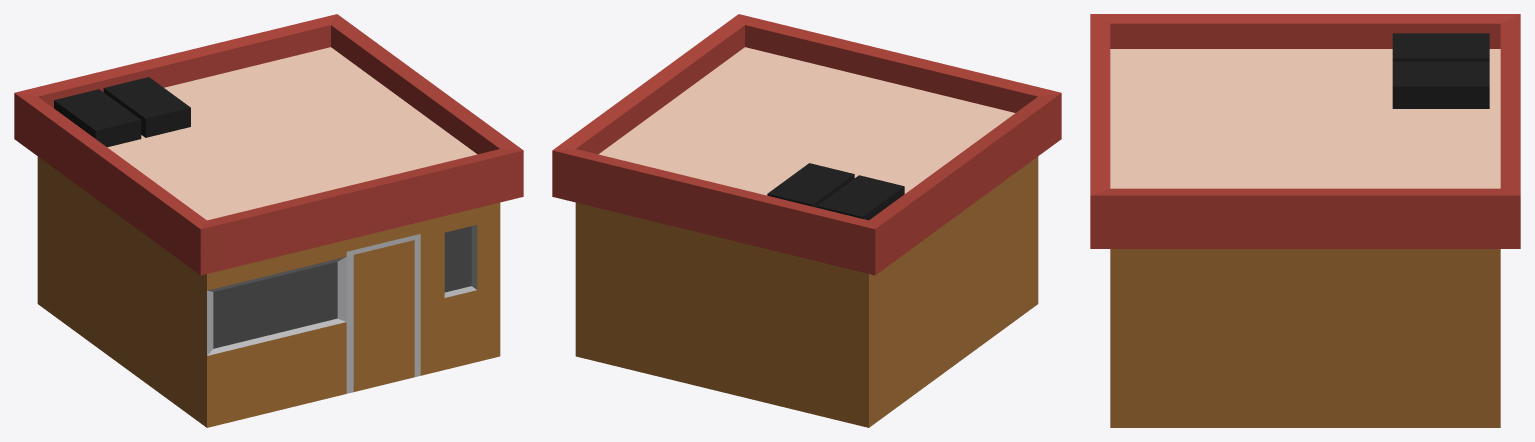
The model's file is Store1.fbx.
3 views of the same model, side by side, from view 1: azimuth 30°, elevation 25°; view 2: azimuth 150°, elevation 25°; view 3: azimuth 270°, elevation 25° (orthographic). The views are drawn at different scales.
Visible parts, largest first — view 1: Store1; view 2: Store1; view 3: Store1.
Part boxes in pixels (x1,y1,x2,y2): Store1: [14, 14, 523, 427]; Store1: [552, 14, 1061, 427]; Store1: [1090, 14, 1520, 427].
Bounding box in the file's own units: 61.39 × 37.89 × 61.39.
